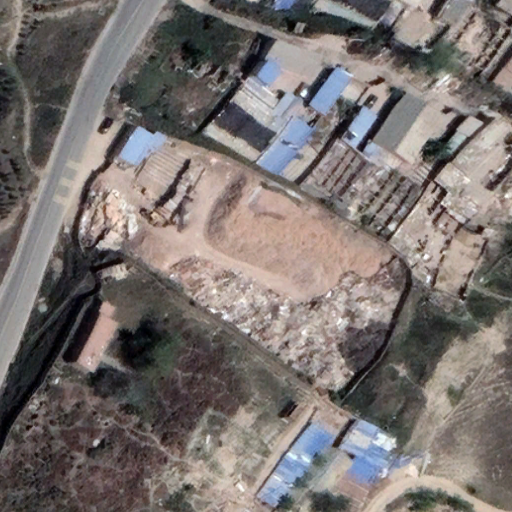msw: (168, 260, 411, 401)
